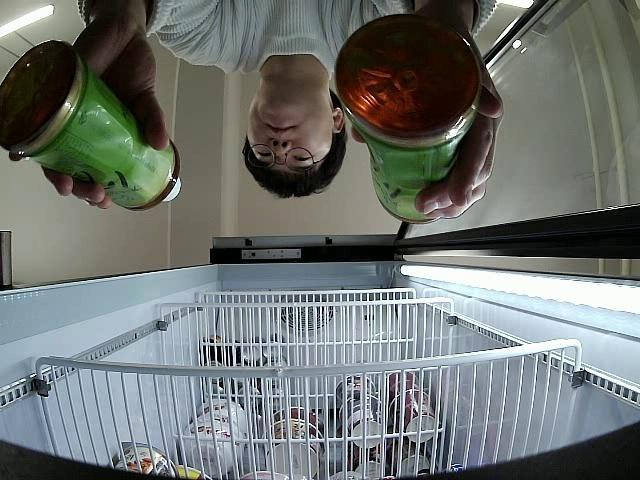19_17cha: (1, 40, 182, 213), (334, 14, 483, 224)
